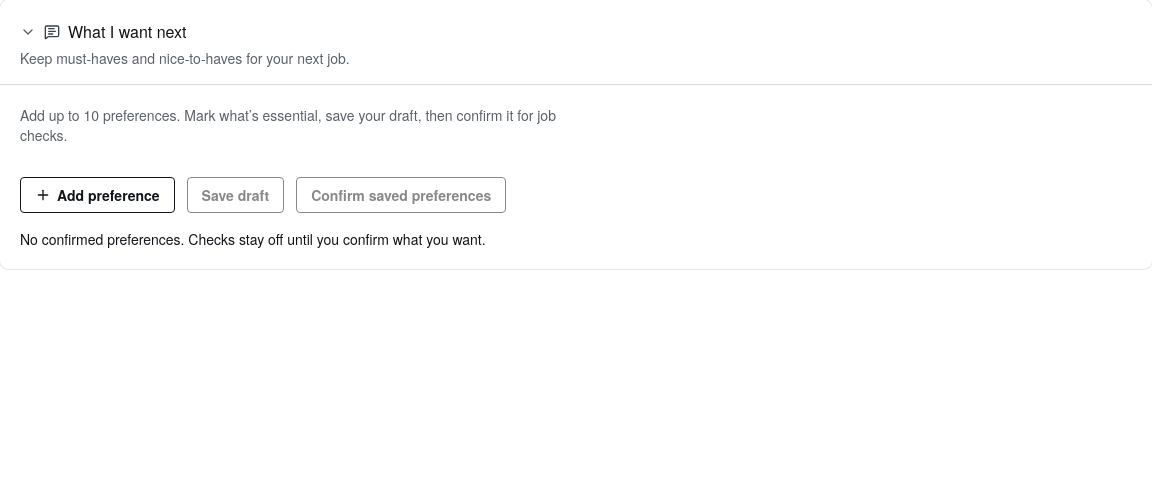
Scenario: saves an editable draft before explicitly confirming it
Click the button "Add preference" at {"x": 97, "y": 195}, box [20, 177, 175, 213]
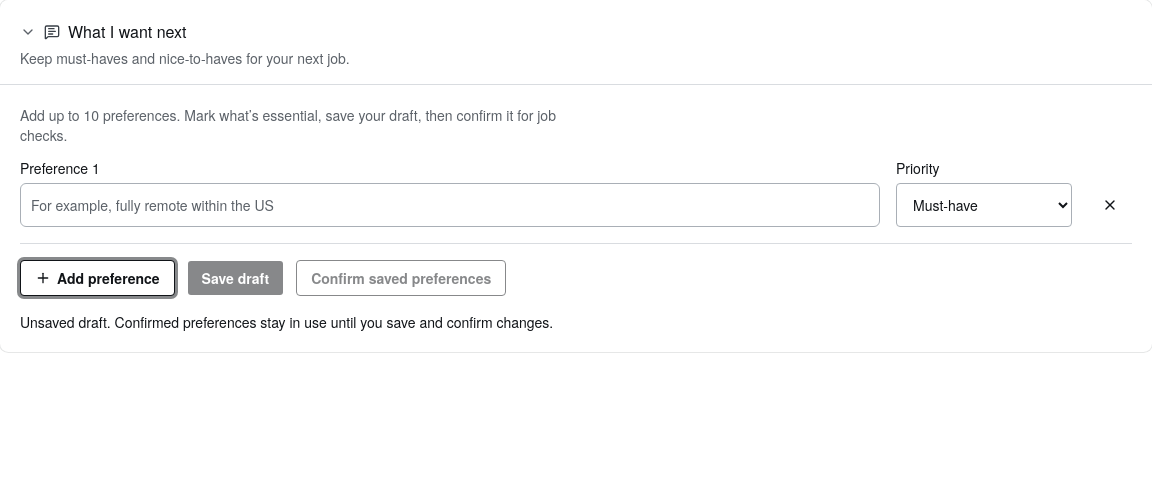
Type "Fully remote" into the field labelled "Preference 1" at {"x": 450, "y": 205}, box [20, 183, 880, 227]
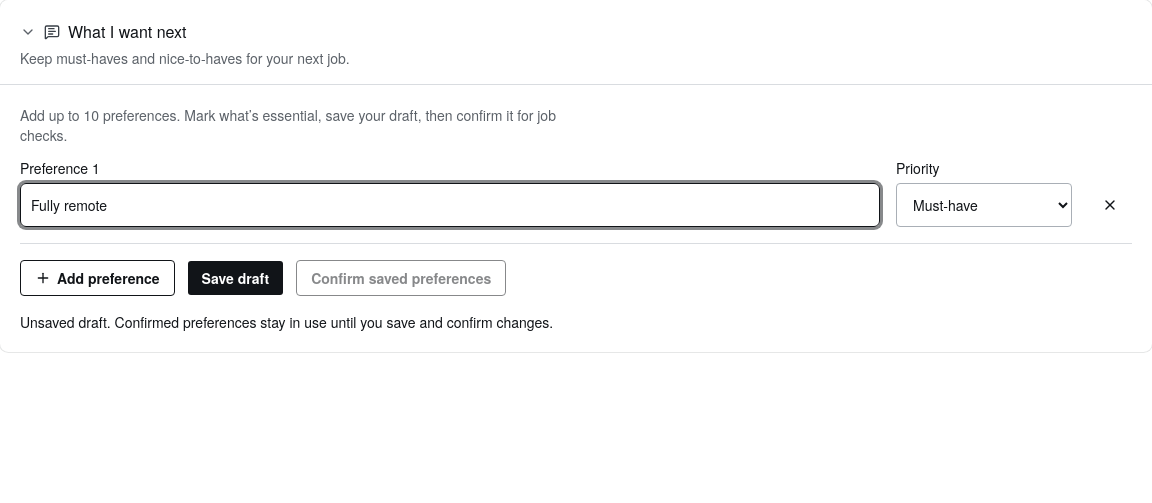
expect the button "Confirm saved preferences" is disabled: met, box [296, 260, 506, 296]
Click the button "Save draft" at {"x": 235, "y": 278}, box [187, 260, 284, 296]
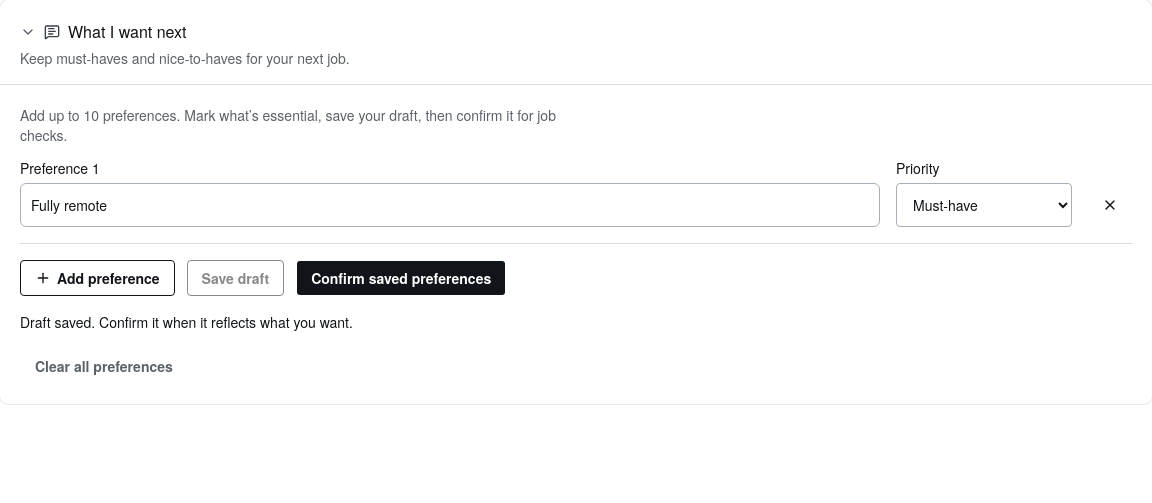
expect the text "Draft saved. Confirm it when it reflects what you want." is shown: met, box [20, 312, 353, 332]
Click the button "Confirm saved preferences" at {"x": 401, "y": 278}, box [296, 260, 506, 296]
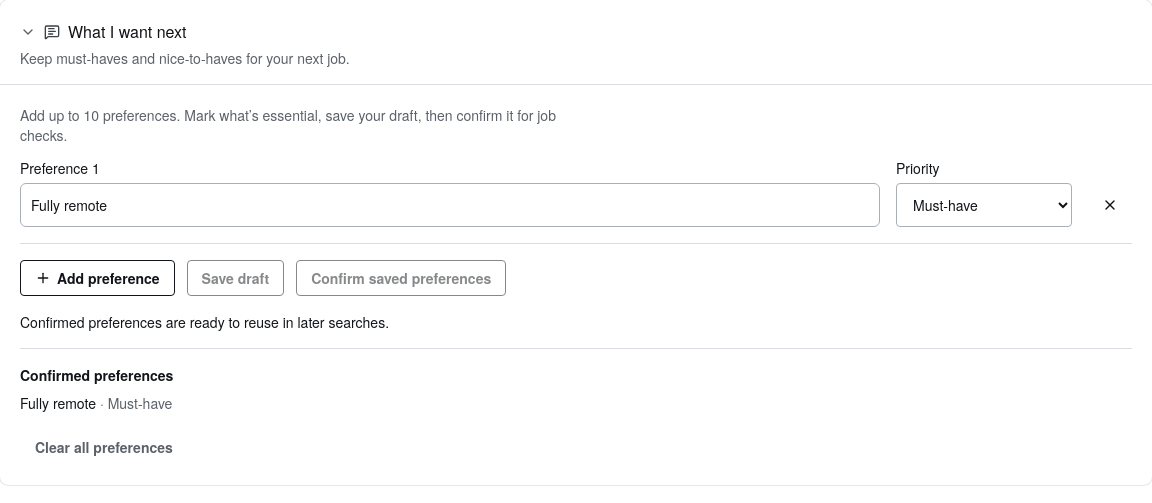
expect the text "Confirmed preferences are ready to reuse in later searches." is shown: met, box [20, 312, 389, 332]
expect the list named "Confirmed preferences" shows "Fully remote": met, box [20, 393, 96, 413]
